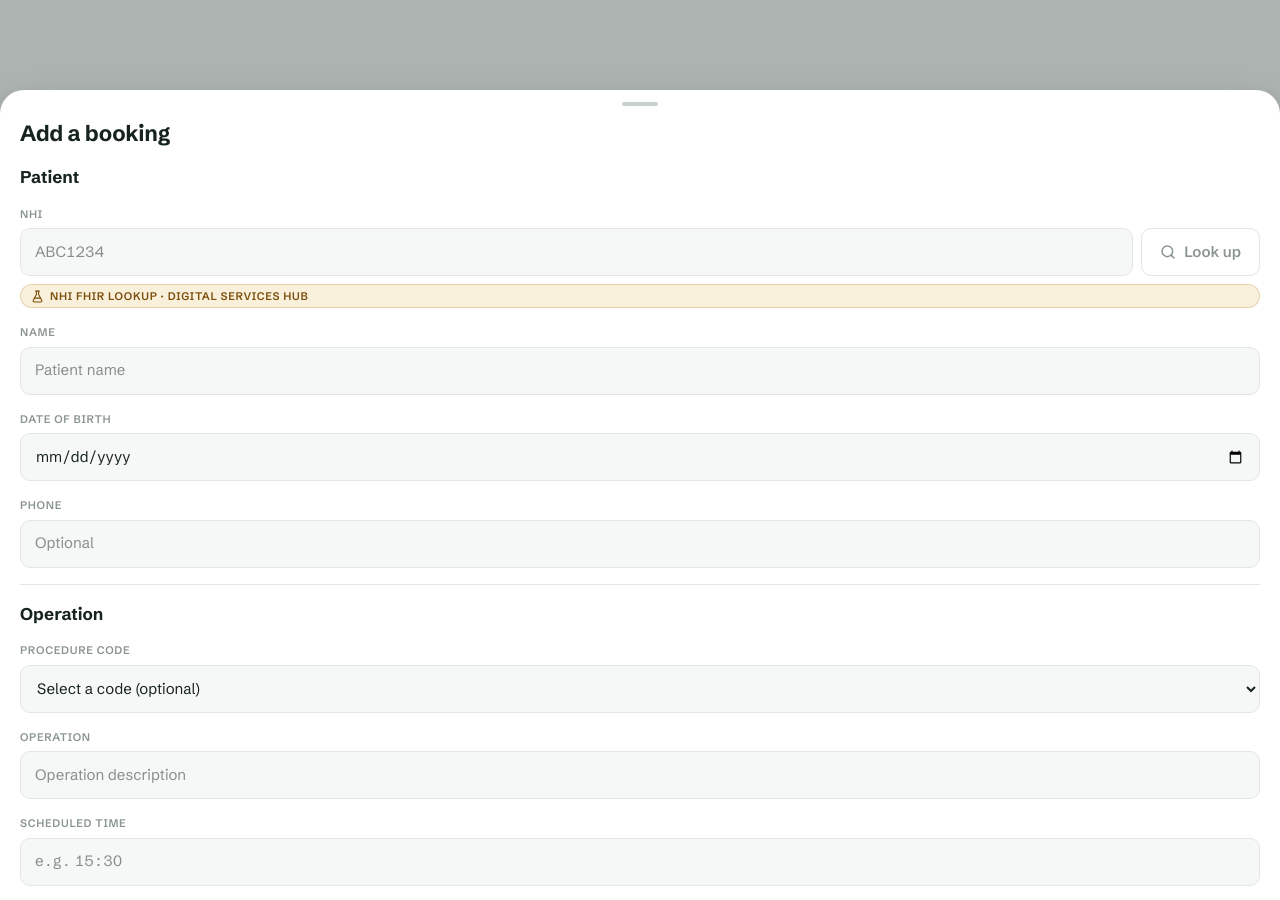
Test: AddBookingFlow › stamps the manual Booking from an anaesthetist as {"who":"Dr Melanie Souter","role":"anaesthetist","source":"anaesthetist","anaesthetistId":"34821"}
Type "Ad Hoc Patient" into the field labelled "Name".
click(640, 370); type("Ad Hoc Patient")  # box [20, 346, 1260, 394]
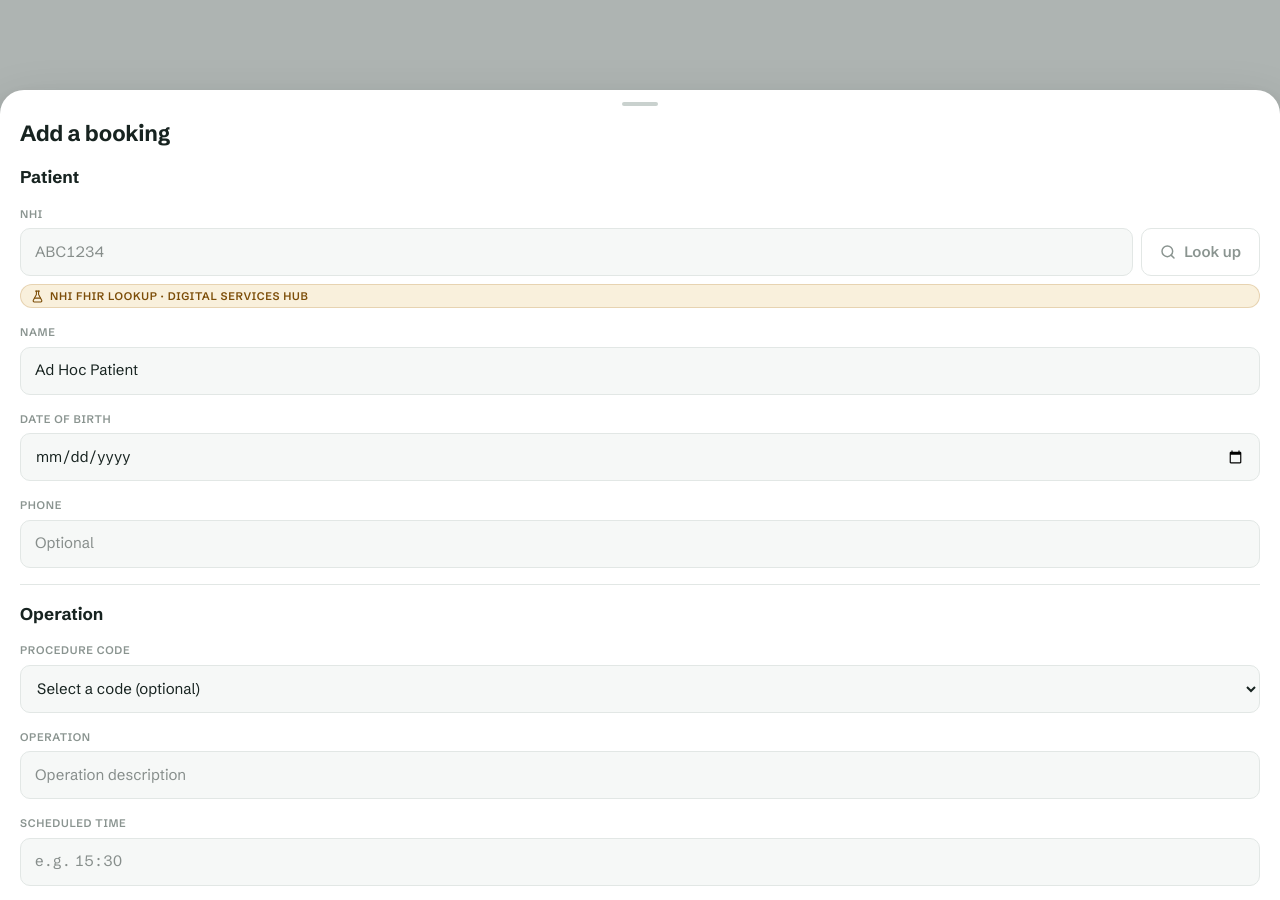
Type "1990-05-05" into the date field labelled "Date of birth".
click(640, 457); type("1990-05-05")  # box [20, 433, 1260, 481]
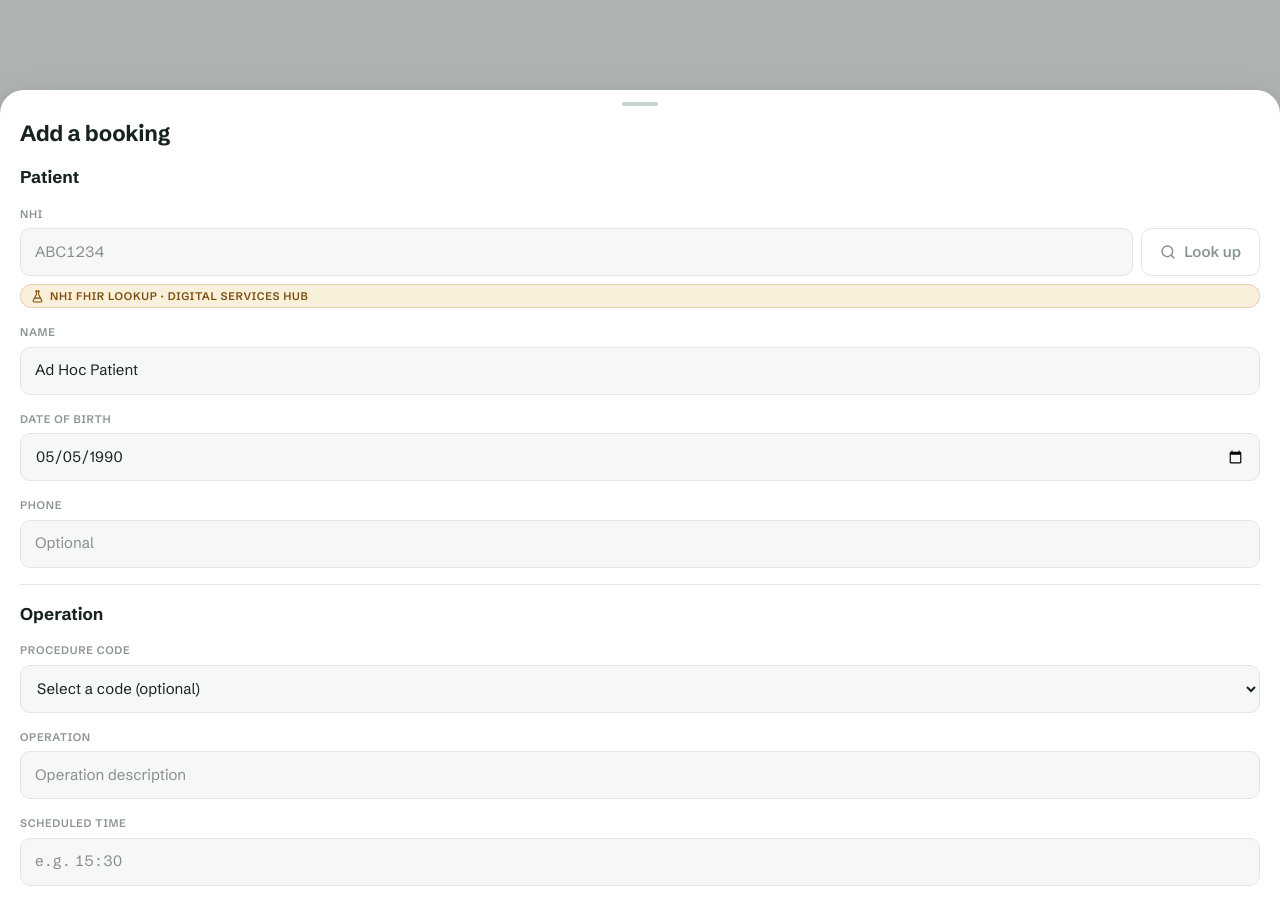
Type "Diagnostic laparoscopy" into the field labelled "Operation".
click(640, 775); type("Diagnostic laparoscopy")  # box [20, 751, 1260, 799]
(page scrolled)
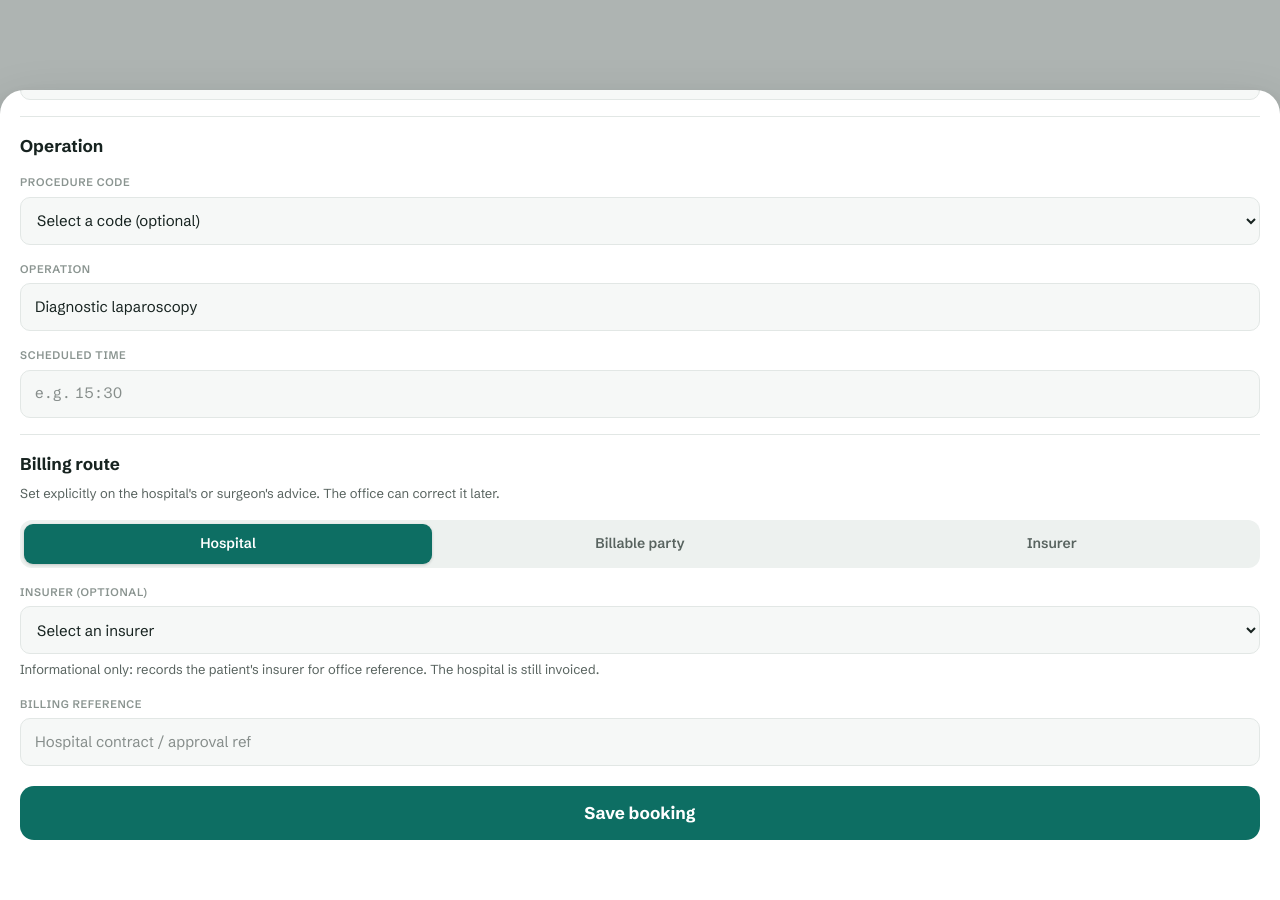
Click the button "Save booking".
click(640, 813)  # box [20, 786, 1260, 840]
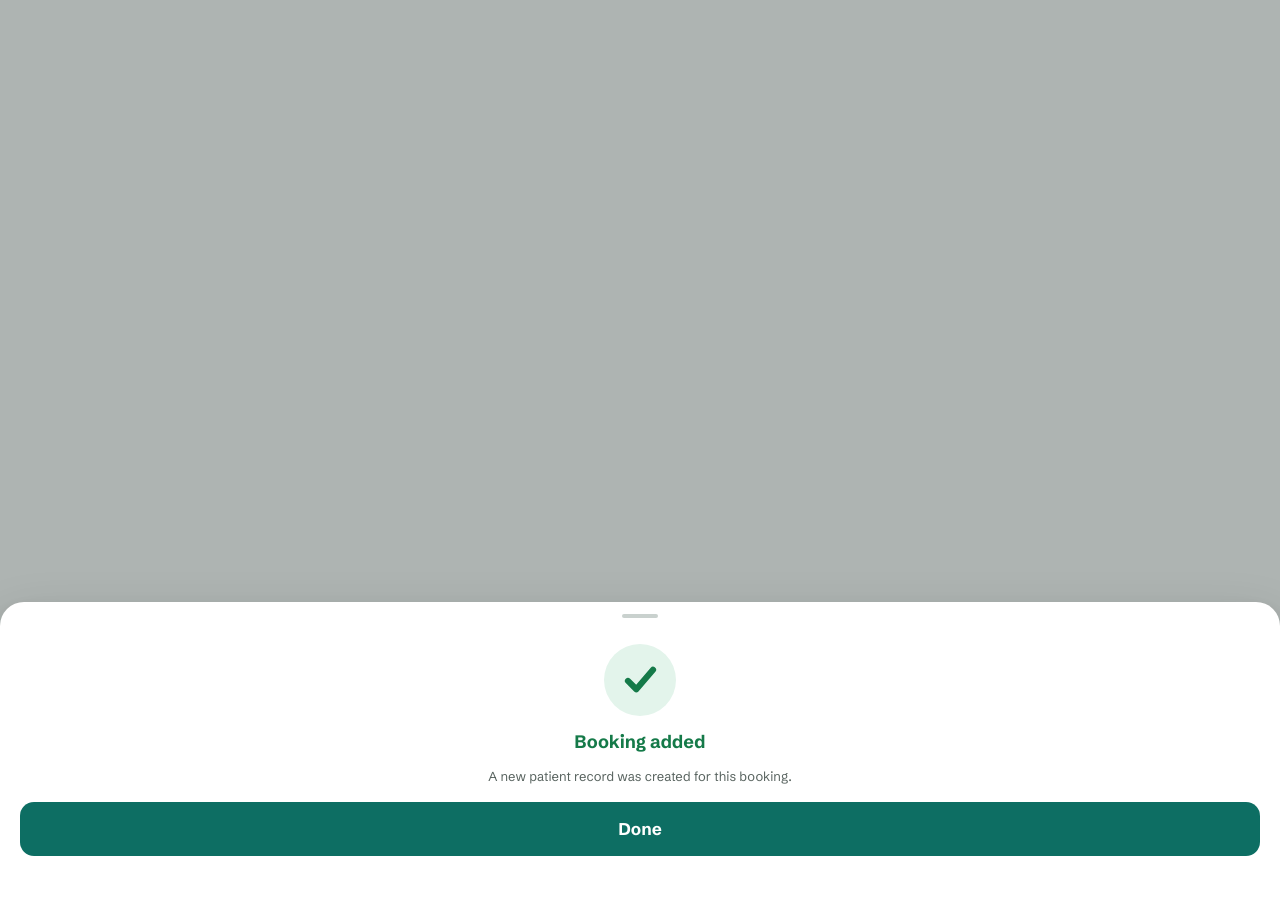
Check: the text "Booking added" is shown, box [574, 728, 706, 754]
